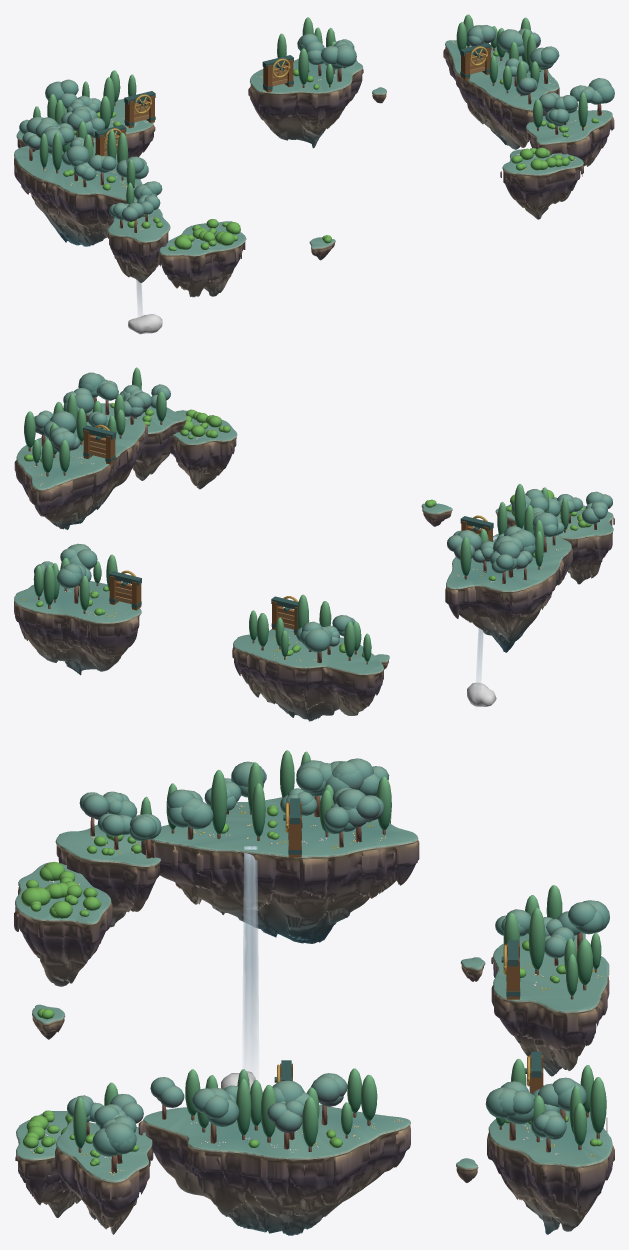
The model's file is tidelock.glb.
3 views of the same model, one above another, from view 1: azimuth 30°, elevation 25°; view 2: azimuth 150°, elevation 25°; view 3: azimuth 270°, elevation 25° (orthographic). The views are drawn at different scales.
Visible parts, largest first — view 1: decor_leaves, decor_m06, decor_m01, decor_m07, decor_m03, decor_solid, decor_m04, decor_m04.001, decor_m03.001, decor_m00, decor_trunks, clouds; view 2: decor_leaves, decor_m00, decor_m01, decor_m06, decor_m07, decor_solid, decor_m04, decor_m04.001, decor_m03.001, decor_trunks, clouds, decor_s00; view 3: decor_leaves, decor_m06, decor_m07, decor_m01, decor_m00, decor_m03, decor_m03.001, decor_m04.001, waterfall, decor_m04, decor_solid, decor_trunks (+1 smaller).
Boxes of the visible parts, left/top/right/bottom form: decor_leaves: left=19, top=14, right=614, bottom=250; decor_m06: left=14, top=136, right=142, bottom=246; decor_m01: left=248, top=58, right=363, bottom=148; decor_m07: left=443, top=40, right=559, bottom=149; decor_m03: left=158, top=221, right=246, bottom=297; decor_solid: left=95, top=43, right=491, bottom=155; decor_m04: left=500, top=149, right=583, bottom=219; decor_m04.001: left=107, top=208, right=170, bottom=282; decor_m03.001: left=526, top=109, right=614, bottom=170; decor_m00: left=16, top=99, right=155, bottom=157; decor_trunks: left=29, top=46, right=601, bottom=232; clouds: left=128, top=314, right=162, bottom=334; decor_leaves: left=24, top=367, right=612, bottom=661; decor_m00: left=232, top=627, right=383, bottom=721; decor_m01: left=14, top=581, right=141, bottom=675; decor_m06: left=445, top=517, right=572, bottom=652; decor_m07: left=14, top=418, right=147, bottom=529; decor_solid: left=83, top=424, right=493, bottom=634; decor_m04: left=170, top=410, right=237, bottom=489; decor_m04.001: left=556, top=510, right=614, bottom=584; decor_m03.001: left=85, top=403, right=186, bottom=480; decor_trunks: left=28, top=397, right=599, bottom=664; clouds: left=467, top=682, right=496, bottom=706; decor_s00: left=421, top=503, right=452, bottom=526; decor_leaves: left=21, top=750, right=609, bottom=1166; decor_m06: left=141, top=796, right=419, bottom=943; decor_m07: left=138, top=1104, right=410, bottom=1235; decor_m01: left=487, top=1110, right=614, bottom=1234; decor_m00: left=491, top=933, right=609, bottom=1076; decor_m03: left=14, top=863, right=112, bottom=986; decor_m03.001: left=55, top=1121, right=153, bottom=1234; decor_m04.001: left=55, top=824, right=160, bottom=927; waterfall: left=242, top=846, right=258, bottom=1078; decor_m04: left=15, top=1111, right=80, bottom=1217; decor_solid: left=274, top=798, right=543, bottom=1093; decor_trunks: left=78, top=795, right=599, bottom=1173.
Size of the model in its own units: 38.05 by 15.4 by 26.49.
